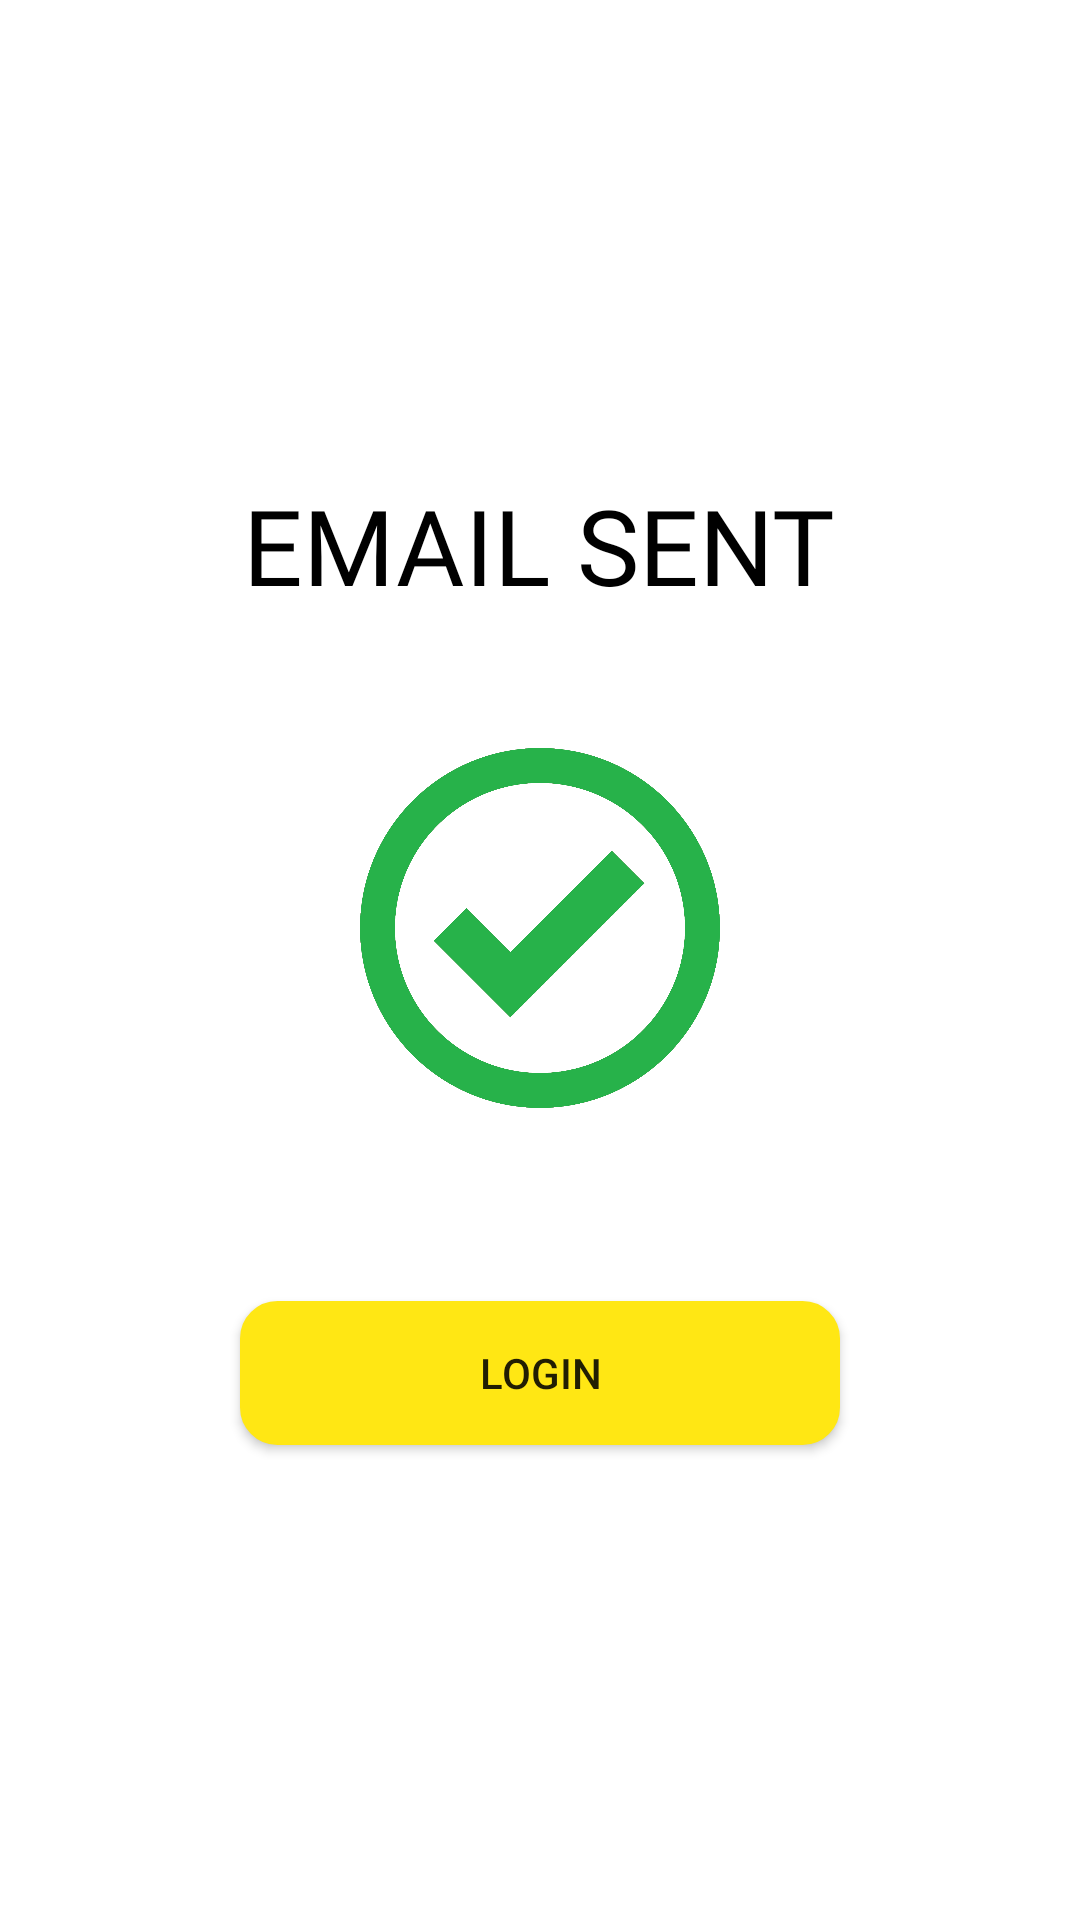

Screen size 1080px×1920px. Icon name, then its box in pixels as (left=x1, top=y1, right=x2, bottom=y2):
checked: (left=360, top=748, right=720, bottom=1108)
